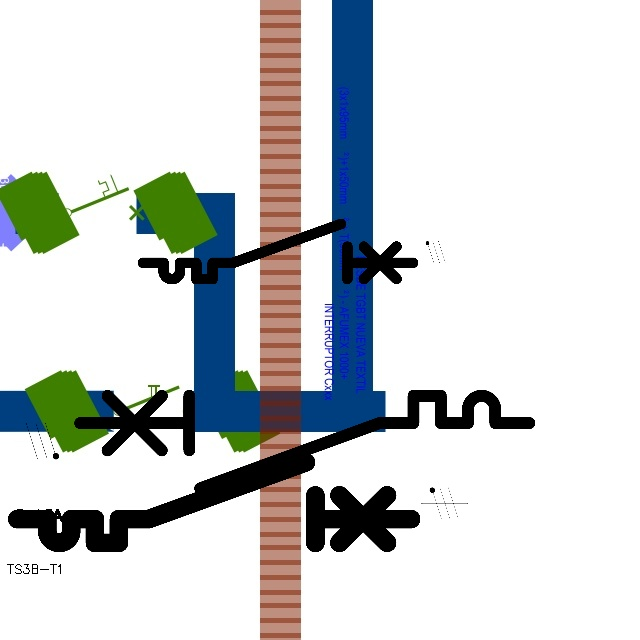interruptor_termomagnetico: (68, 384, 541, 499), (7, 452, 421, 553), (136, 217, 419, 286)
